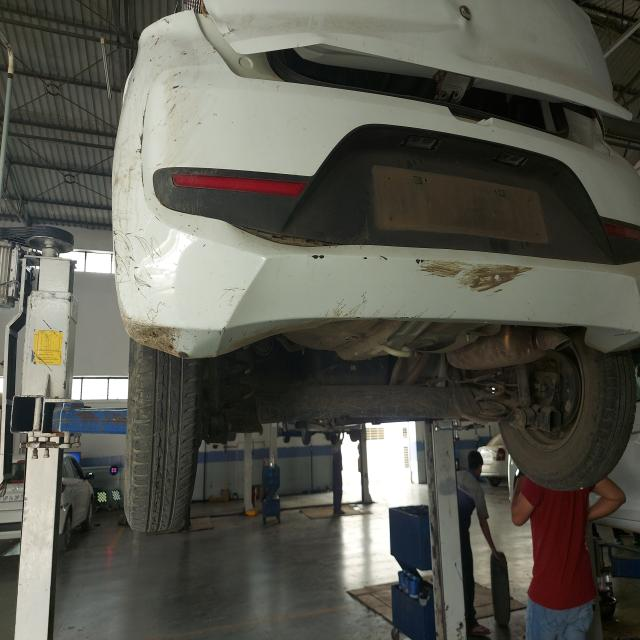damage: (117, 15, 201, 349), (278, 237, 543, 309)
